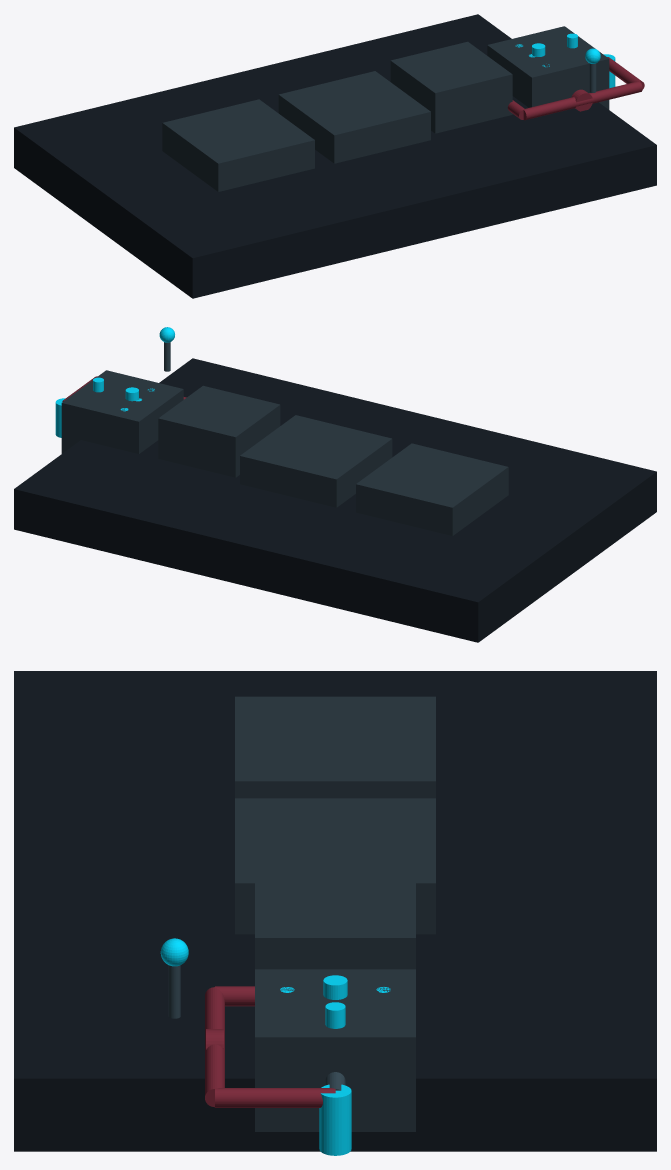
The model's file is ocems-factory.glb.
The picture shows the model from 3 angles, top to bottom: view 1: azimuth 30°, elevation 25°; view 2: azimuth 150°, elevation 25°; view 3: azimuth 270°, elevation 25°; orthographic projection. The views are drawn at different scales.
Visible parts, largest first — view 1: FACTORY_FLOOR, TANK_01, TANK_02, AERATION_TANK, CLARIFIER, PIPE_BYPASS; view 2: FACTORY_FLOOR, TANK_01, TANK_02, AERATION_TANK, CLARIFIER; view 3: FACTORY_FLOOR, CLARIFIER, TANK_01, TANK_02, AERATION_TANK, PIPE_BYPASS_EXIT, DISCHARGE_POINT, PIPE_BYPASS.
Part boxes in pixels (box(x1,y1,x2,y2)): FACTORY_FLOOR: box(14, 14, 656, 298); TANK_01: box(162, 99, 314, 191); TANK_02: box(278, 71, 430, 163); AERATION_TANK: box(390, 41, 512, 133); CLARIFIER: box(487, 26, 609, 109); PIPE_BYPASS: box(523, 81, 642, 120); FACTORY_FLOOR: box(14, 358, 656, 642); TANK_01: box(356, 443, 508, 535); TANK_02: box(240, 415, 392, 507); AERATION_TANK: box(158, 385, 280, 477); CLARIFIER: box(61, 370, 183, 453); FACTORY_FLOOR: box(14, 671, 656, 1151); CLARIFIER: box(255, 969, 415, 1131); TANK_01: box(235, 696, 435, 798); TANK_02: box(235, 798, 435, 934); AERATION_TANK: box(255, 870, 415, 969); PIPE_BYPASS_EXIT: box(215, 1088, 335, 1107); DISCHARGE_POINT: box(319, 1084, 351, 1155); PIPE_BYPASS: box(205, 987, 224, 1107).
Size of the model in its own units: 26.4 by 5.35 by 16.
